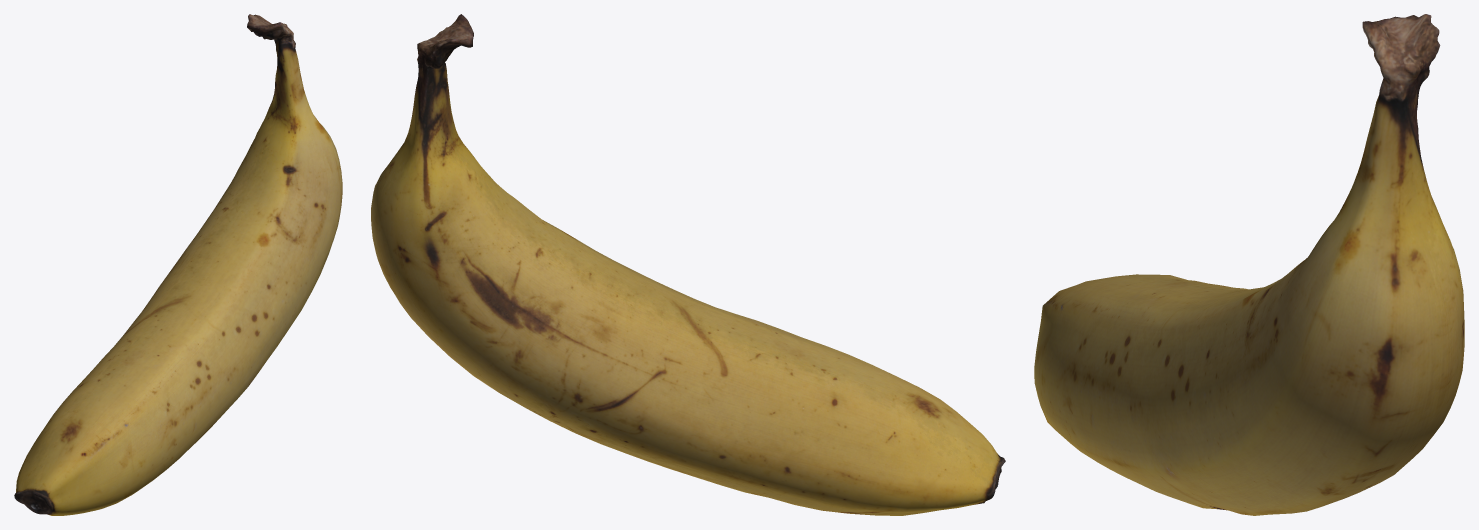
File: banana1.fbx
The picture shows the model from 3 angles, left to right: view 1: azimuth 30°, elevation 25°; view 2: azimuth 150°, elevation 25°; view 3: azimuth 270°, elevation 25°; orthographic projection. The views are drawn at different scales.
Visible parts, largest first — view 1: banana; view 2: banana; view 3: banana.
Part boxes in pixels (x1,y1,x2,y2): banana: [14, 14, 342, 515]; banana: [371, 14, 1005, 515]; banana: [1034, 14, 1464, 515].
Size of the model in its own units: 1.52 by 1.35 by 0.812.
1 material, 1 textured.
